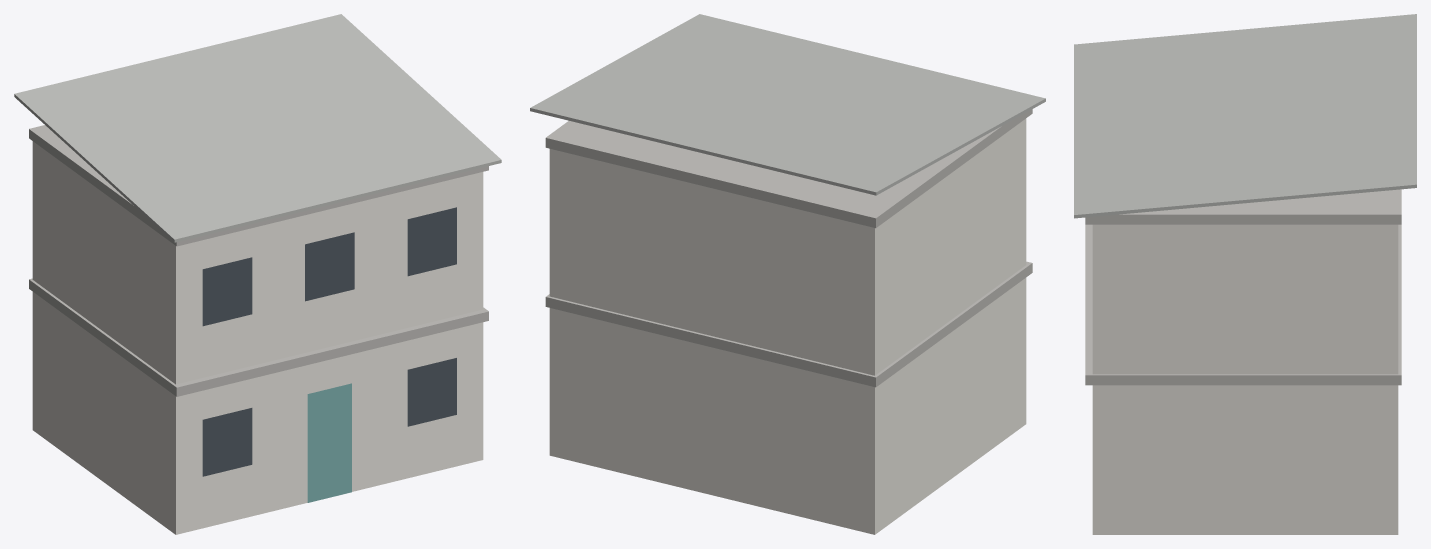
3 renders of one model, left to right at view 1: azimuth 30°, elevation 25°; view 2: azimuth 150°, elevation 25°; view 3: azimuth 270°, elevation 25°, orthographic. The views are drawn at different scales.
Visible parts, largest first — view 1: fv_h04.lod1; view 2: fv_h04.lod1; view 3: fv_h04.lod1.
Part boxes in pixels (x1,y1,x2,y2): fv_h04.lod1: (14, 14, 501, 534); fv_h04.lod1: (530, 14, 1045, 534); fv_h04.lod1: (1074, 14, 1416, 534).
Bounding box in the file's own units: 6.6 × 6.41 × 5.6.
